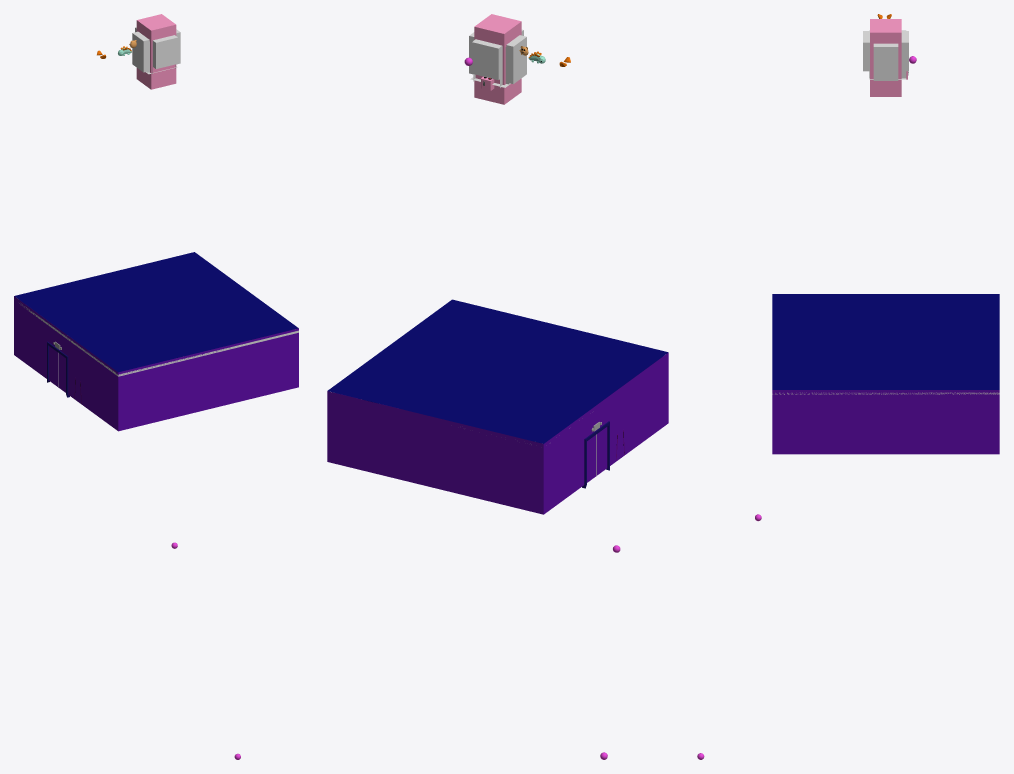
The model's file is arcadeRoom.fbx.
The picture shows the model from 3 angles, left to right: view 1: azimuth 30°, elevation 25°; view 2: azimuth 150°, elevation 25°; view 3: azimuth 270°, elevation 25°; orthographic projection. The views are drawn at different scales.
Parts seen in each view (by area): view 1: Ceiling, Ground, machine, LED lights, hole1, hole2; view 2: Ceiling, Ground, machine, hole1, hole2; view 3: Ceiling, Ground, machine, hole2.
Part boxes in pixels (x1=…): Ceiling: x1=14, y1=252, x2=298, y2=372; Ground: x1=14, y1=296, x2=298, y2=431; machine: x1=136, y1=14, x2=176, y2=89; LED lights: x1=19, y1=303, x2=298, y2=376; hole1: x1=135, y1=27, x2=177, y2=68; hole2: x1=132, y1=29, x2=180, y2=72; Ceiling: x1=327, y1=299, x2=668, y2=443; Ground: x1=327, y1=352, x2=668, y2=514; machine: x1=474, y1=14, x2=521, y2=104; hole1: x1=472, y1=29, x2=523, y2=80; hole2: x1=469, y1=32, x2=526, y2=84; Ceiling: x1=772, y1=294, x2=999, y2=389; Ground: x1=772, y1=390, x2=999, y2=454; machine: x1=870, y1=19, x2=901, y2=96; hole2: x1=873, y1=43, x2=898, y2=80.
Bounding box in the file's own units: 2446 × 8683 × 3233.
